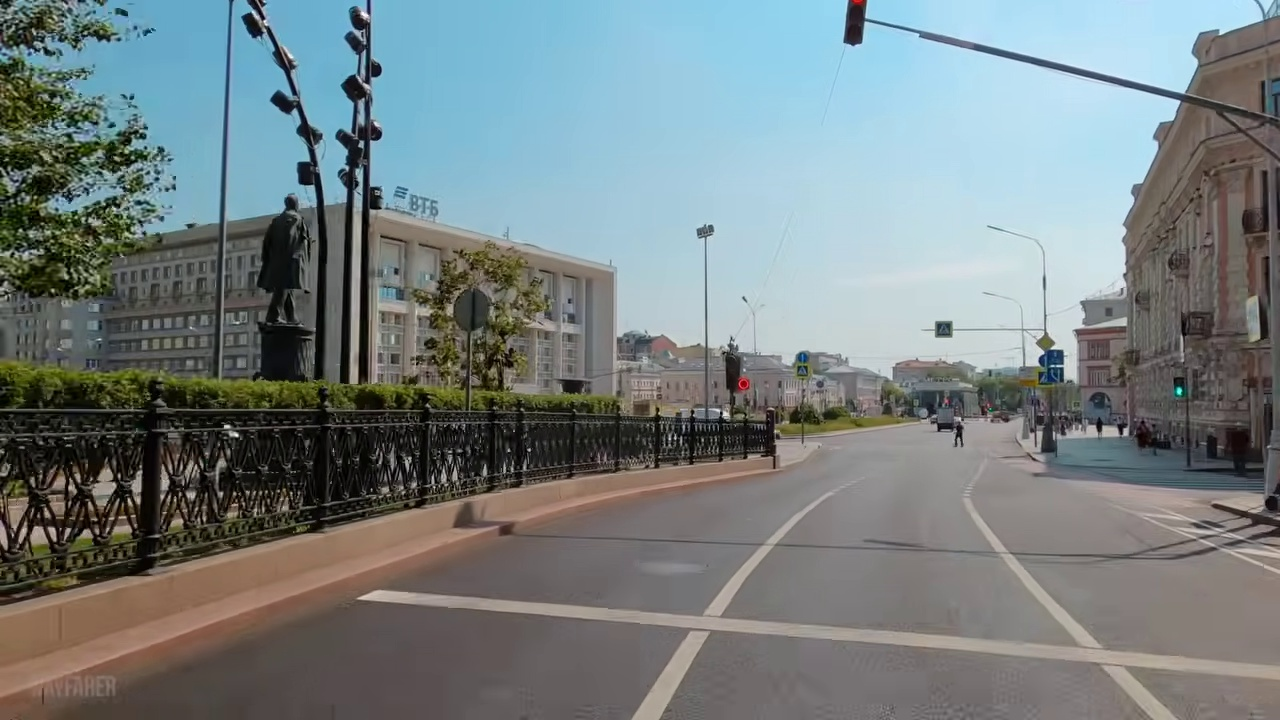apagada: (334, 54, 385, 90), (238, 8, 270, 44), (691, 220, 718, 244), (985, 219, 1007, 237)
